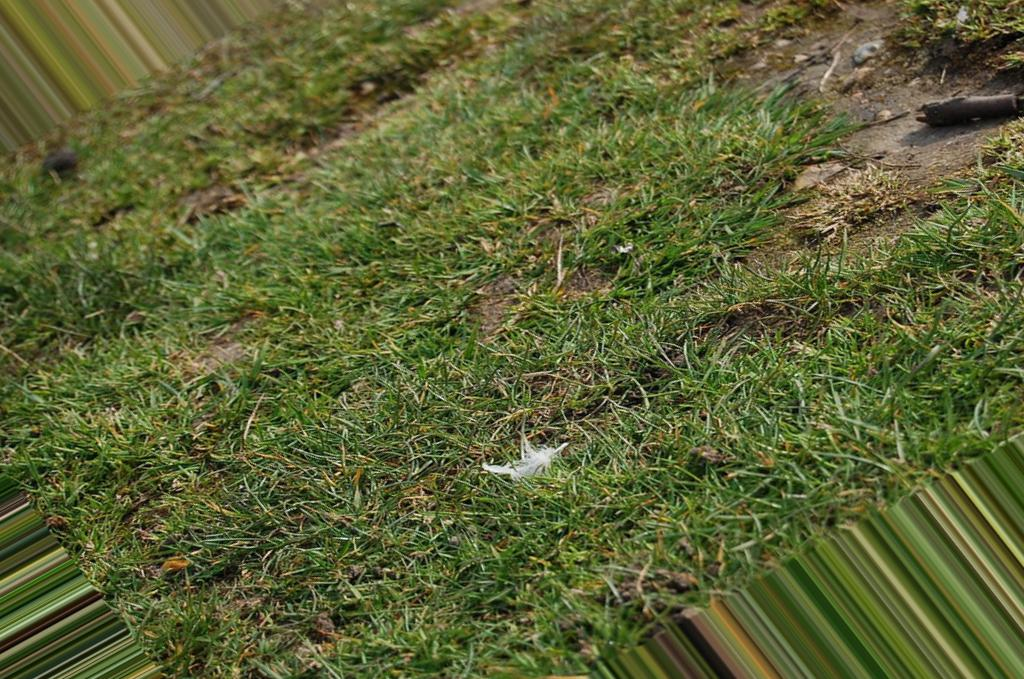patch: (789, 162, 889, 264), (837, 104, 968, 157), (760, 25, 861, 87), (725, 221, 784, 269), (474, 265, 512, 324), (169, 181, 251, 208), (173, 329, 242, 357), (681, 438, 730, 466)
